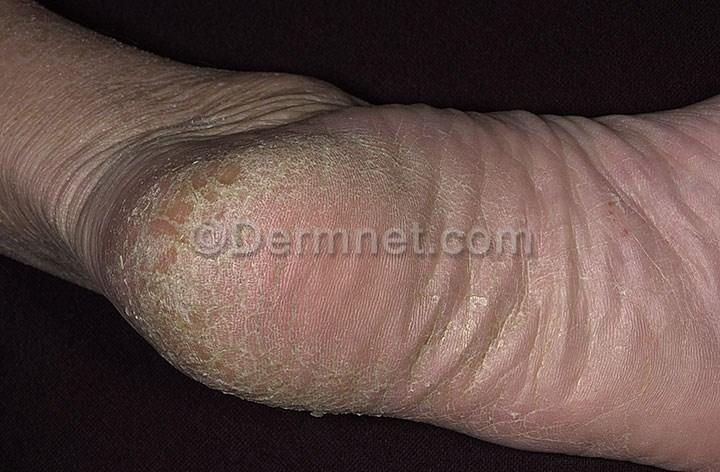Eczema: (179, 258, 289, 390), (327, 132, 466, 224), (104, 180, 191, 324), (186, 138, 323, 213), (282, 356, 387, 417)
